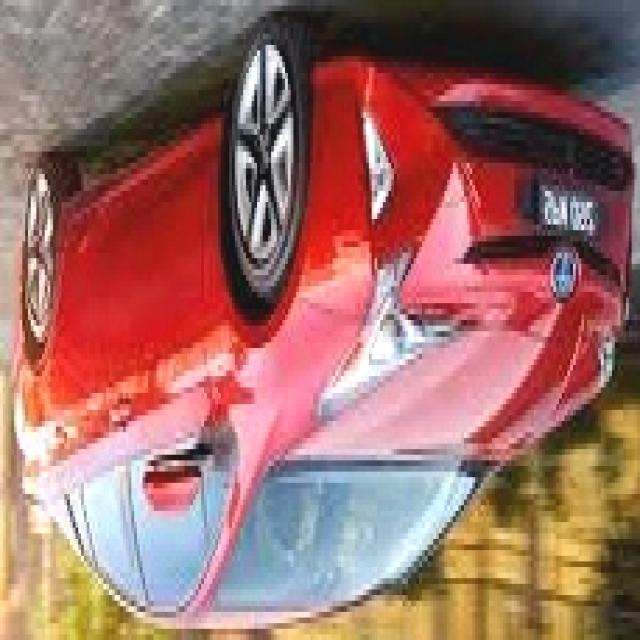red: (2, 55, 638, 638)
